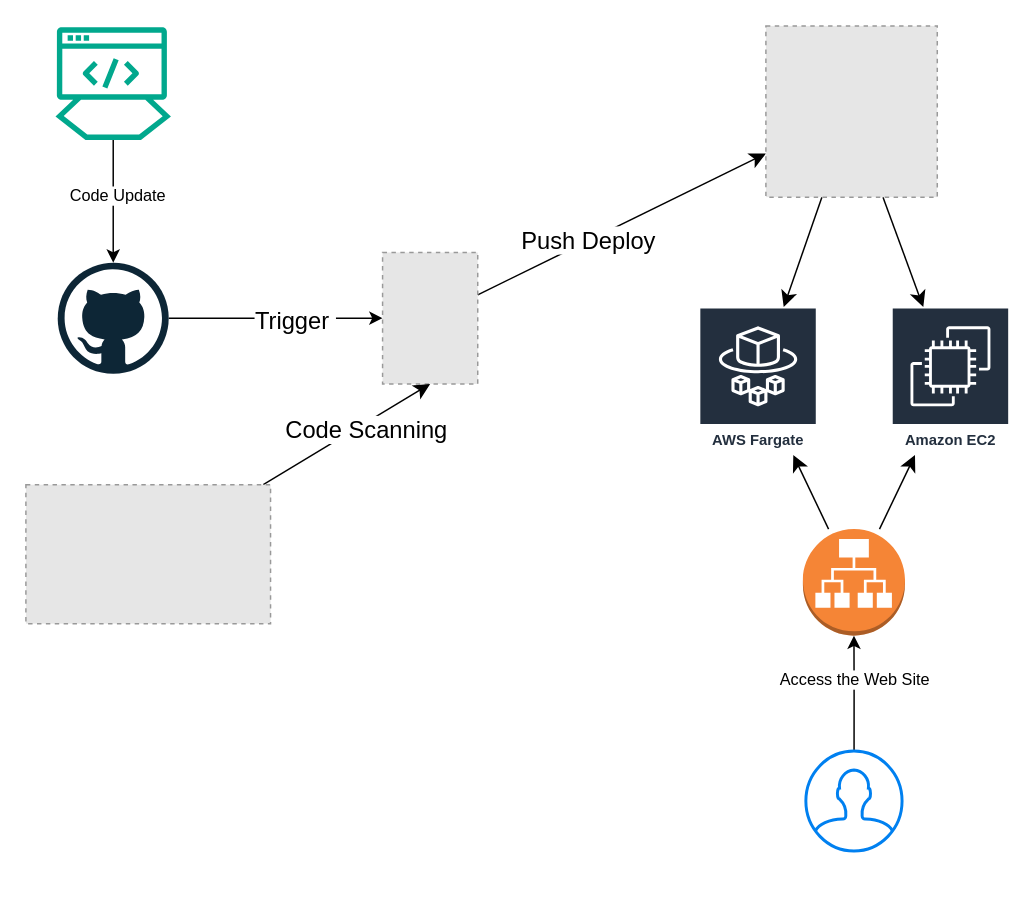
This 1036x907 diagram has some shape labels left out. Grey dashed boxes stand in for pictures. The centre of each missing label's shape, as x and y in pixels:
Developer: point 112,83
User: point 853,800
